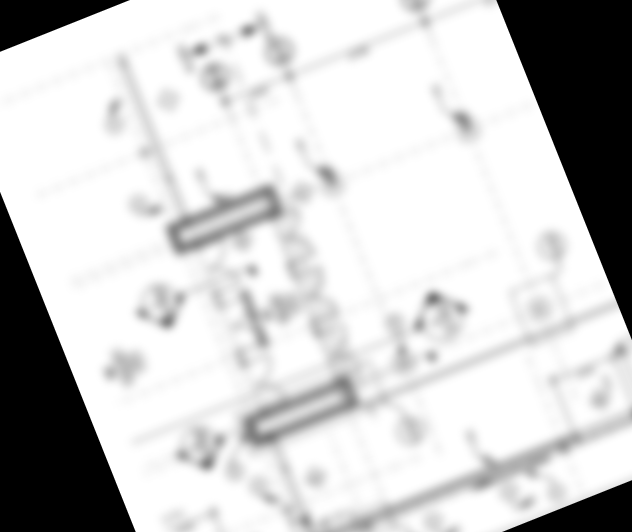double door: (240, 351, 292, 414), (218, 293, 269, 355), (293, 262, 343, 325), (194, 235, 243, 298), (269, 204, 318, 267), (315, 320, 364, 382)
